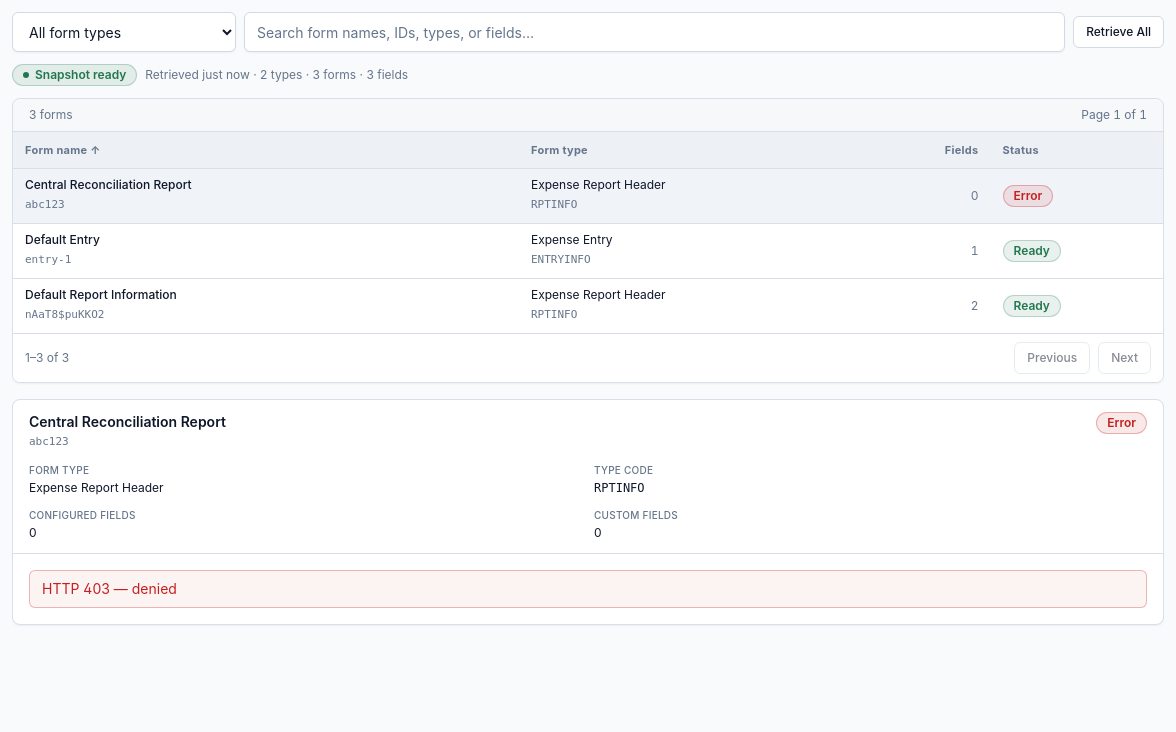
Test case: FormsView › renders a consistent form table and selected field detail
Check: the text "Snapshot ready" is shown, box [12,64,137,86]
Check: the text "Retrieved just now · 2 types · 3 forms · 3 fields" is shown, box [145,67,408,83]
Click the text "Default Report Information" at point(101, 294), box [25,287,177,302]
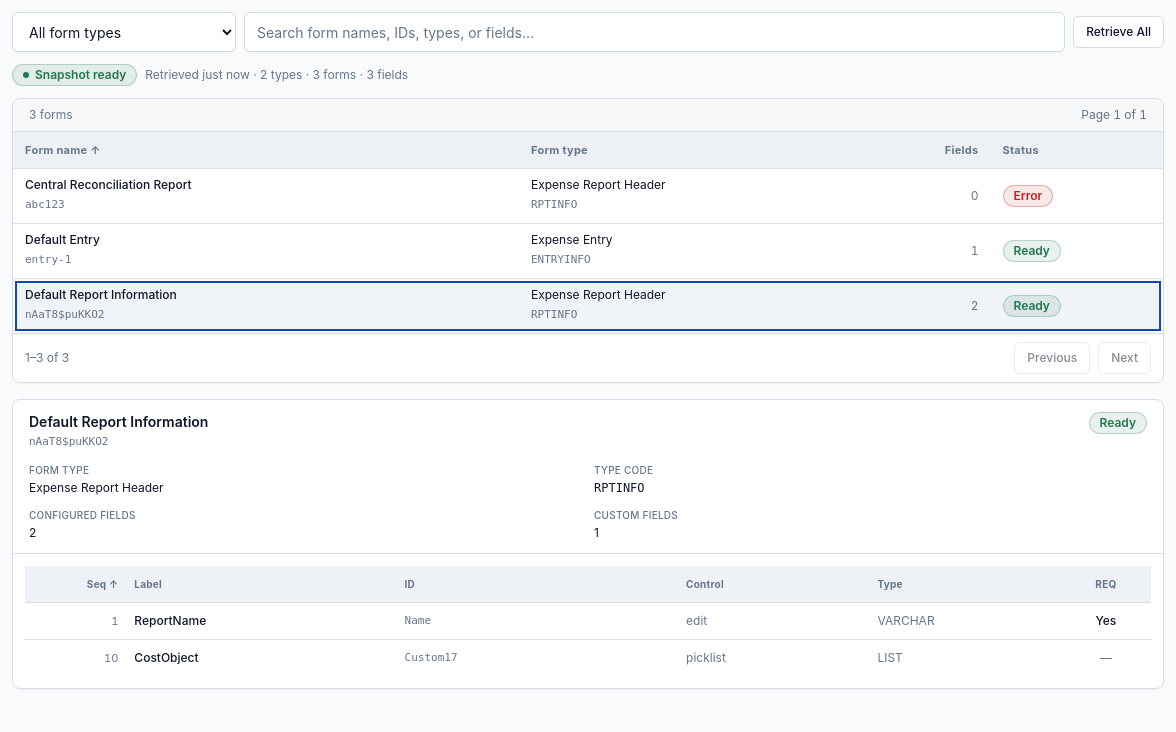
Check: the text "ReportName" is shown, box [126,602,396,639]
Check: the text "CostObject" is shown, box [126,639,396,676]
Check: the text "1" is shown, box [594,524,599,540]
